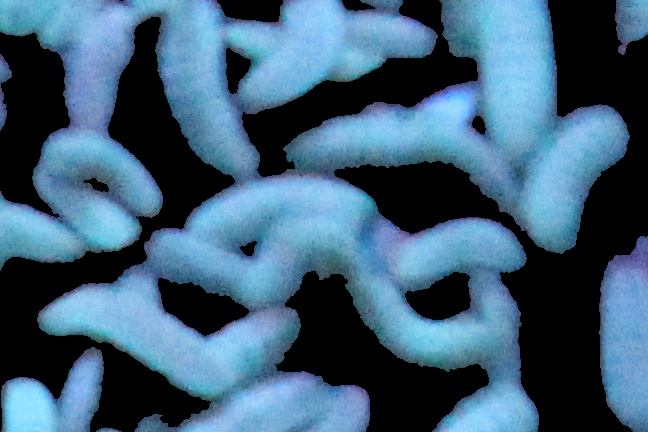larvae: (37, 272, 233, 398), (181, 163, 383, 256), (154, 4, 253, 174), (522, 99, 627, 258), (442, 1, 558, 140), (281, 99, 443, 176), (234, 3, 343, 110), (352, 281, 484, 368), (40, 126, 160, 213), (153, 228, 286, 304), (56, 8, 138, 127), (176, 369, 327, 432), (598, 244, 648, 432), (378, 221, 528, 282), (31, 164, 141, 246), (187, 310, 303, 376), (257, 224, 369, 289), (345, 1, 442, 75), (466, 266, 527, 382), (419, 383, 538, 432)
